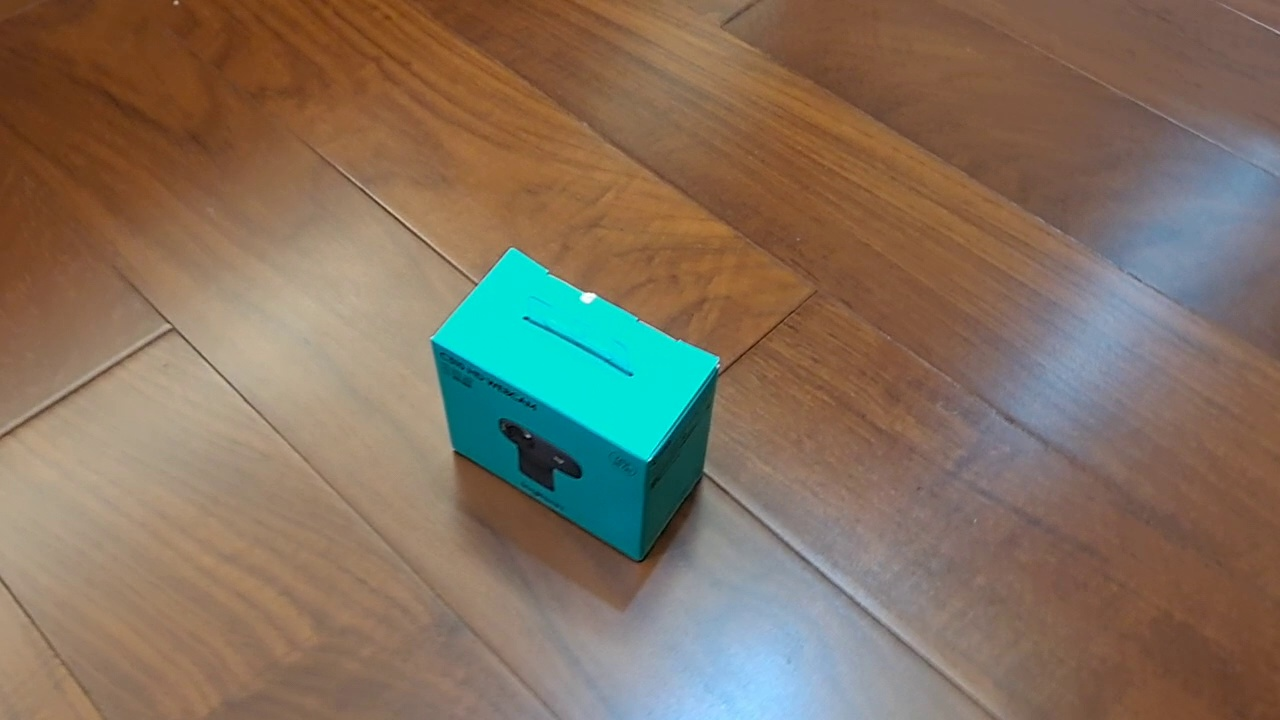webcam: (429, 246, 721, 563)
